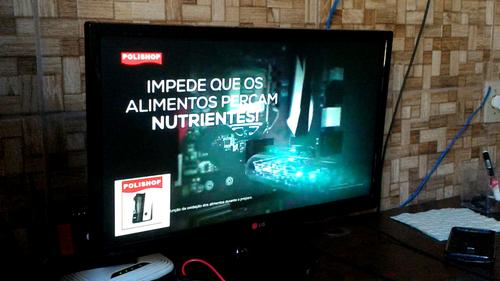Polishop #1: (113, 174, 169, 237)
